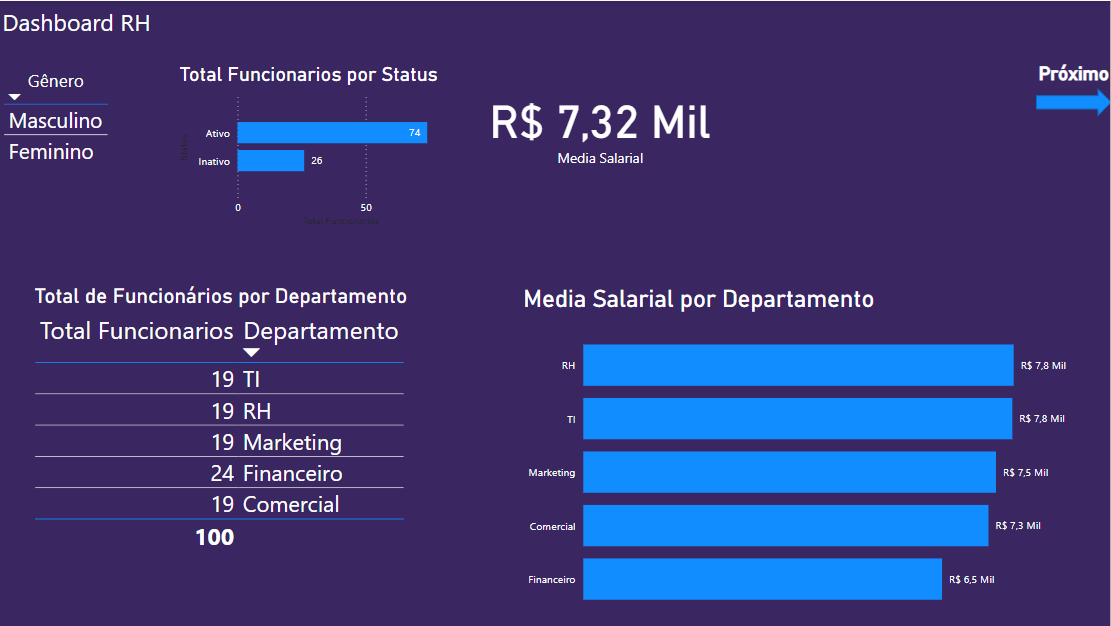

The page's visual inventory and layout, read from the dashboard file:
{"tool":"powerbi","page":{"name":"Página 1","canvas":[1280,720],"ordinal":0},"visuals":[{"type":"tableEx","title":"Total de Funcionários por Departamento","fields":{"Values":["Medidas.Total Funcionarios","Dados RH.Departamento"]},"box":[37.3,325.6,562.2,378.3],"z":0},{"type":"tableEx","fields":{"Values":["Dados RH.Gênero"]},"box":[1.4,71.4,182.4,169],"z":1000},{"type":"clusteredBarChart","fields":{"Category":["Dados RH.Status"],"Y":["Medidas.Total Funcionarios"]},"box":[203.3,71.4,323,192.9],"z":2000},{"type":"card","fields":{"Values":["Medidas.Media Salarial"]},"box":[542.7,71.4,302.1,143.6],"z":3000},{"type":"clusteredBarChart","fields":{"Category":["Dados RH.Departamento"],"Y":["Medidas.Media Salarial"]},"box":[599.5,325.6,635.5,394.8],"z":4000},{"type":"shape","title":"Próximo","box":[1194.3,71.4,87.1,61.4],"z":5000},{"type":"textbox","box":[0,0,647.1,51.4],"z":5001}]}

Visuals, with their boxes in screenshot pixels (x1, y1, x2, y2), scaled from the page's 1280x720 canvas onto the 1111x626 screenshot:
"Total de Funcionários por Departamento" tableEx: select_region(32, 283, 520, 612)
tableEx - Dados RH.Gênero: select_region(1, 62, 160, 209)
clusteredBarChart - Dados RH.Status x Medidas.Total Funcionarios: select_region(176, 62, 457, 230)
card - Medidas.Media Salarial: select_region(471, 62, 733, 187)
clusteredBarChart - Dados RH.Departamento x Medidas.Media Salarial: select_region(520, 283, 1072, 625)
"Próximo" shape: select_region(1037, 62, 1110, 115)
textbox: select_region(0, 0, 562, 45)
